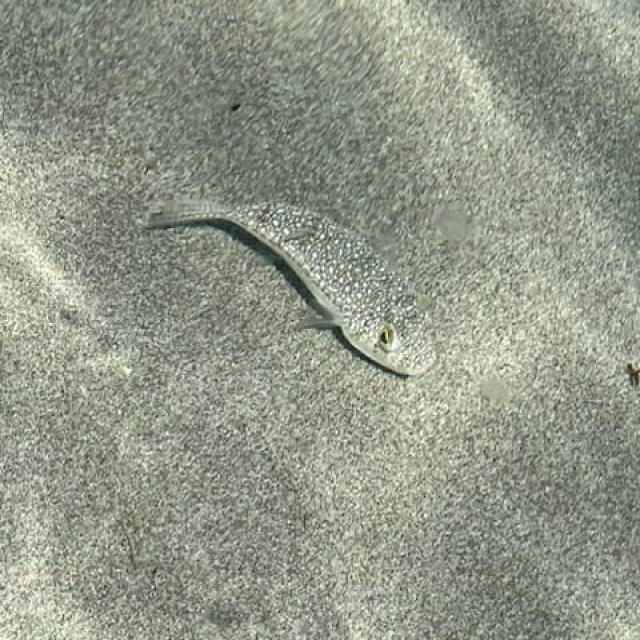Balik: (148, 199, 434, 374)
